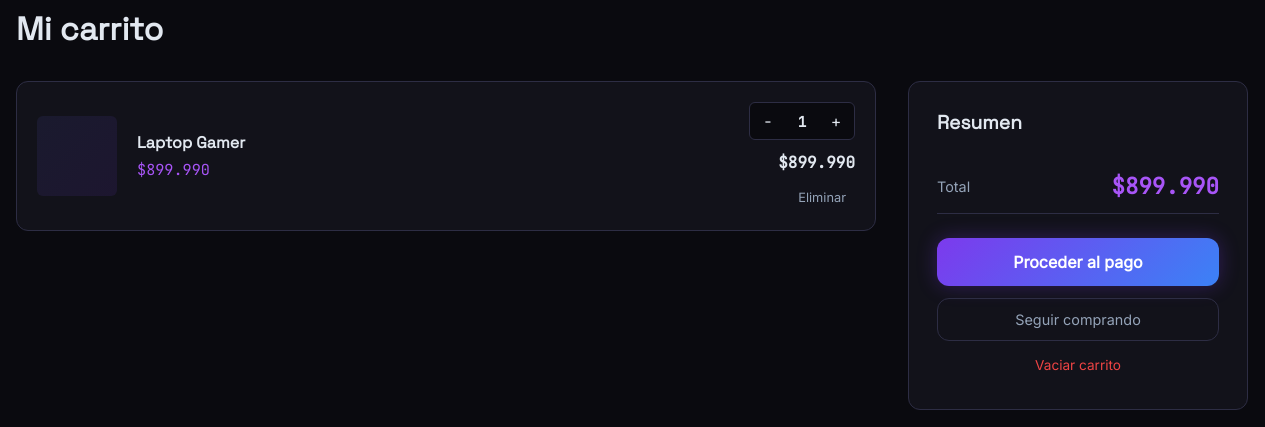
Scenario: HU-07 · Carrito de compras › CA7: vaciar carrito elimina todos los productos
Click the button with test id "btn-vaciar" at (1078, 365), box [937,349,1219,381]
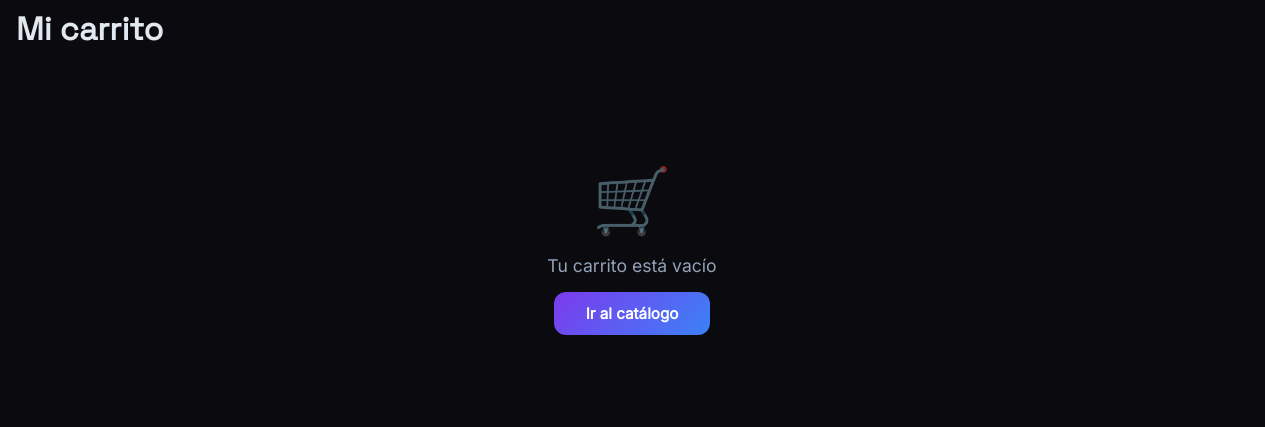
Expected: the element with test id "carrito-vacio" is shown, [547,161,717,335]
